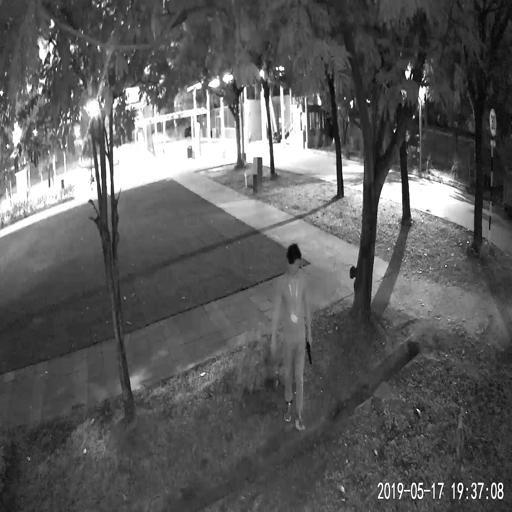Handgun: (304, 335, 311, 364)
